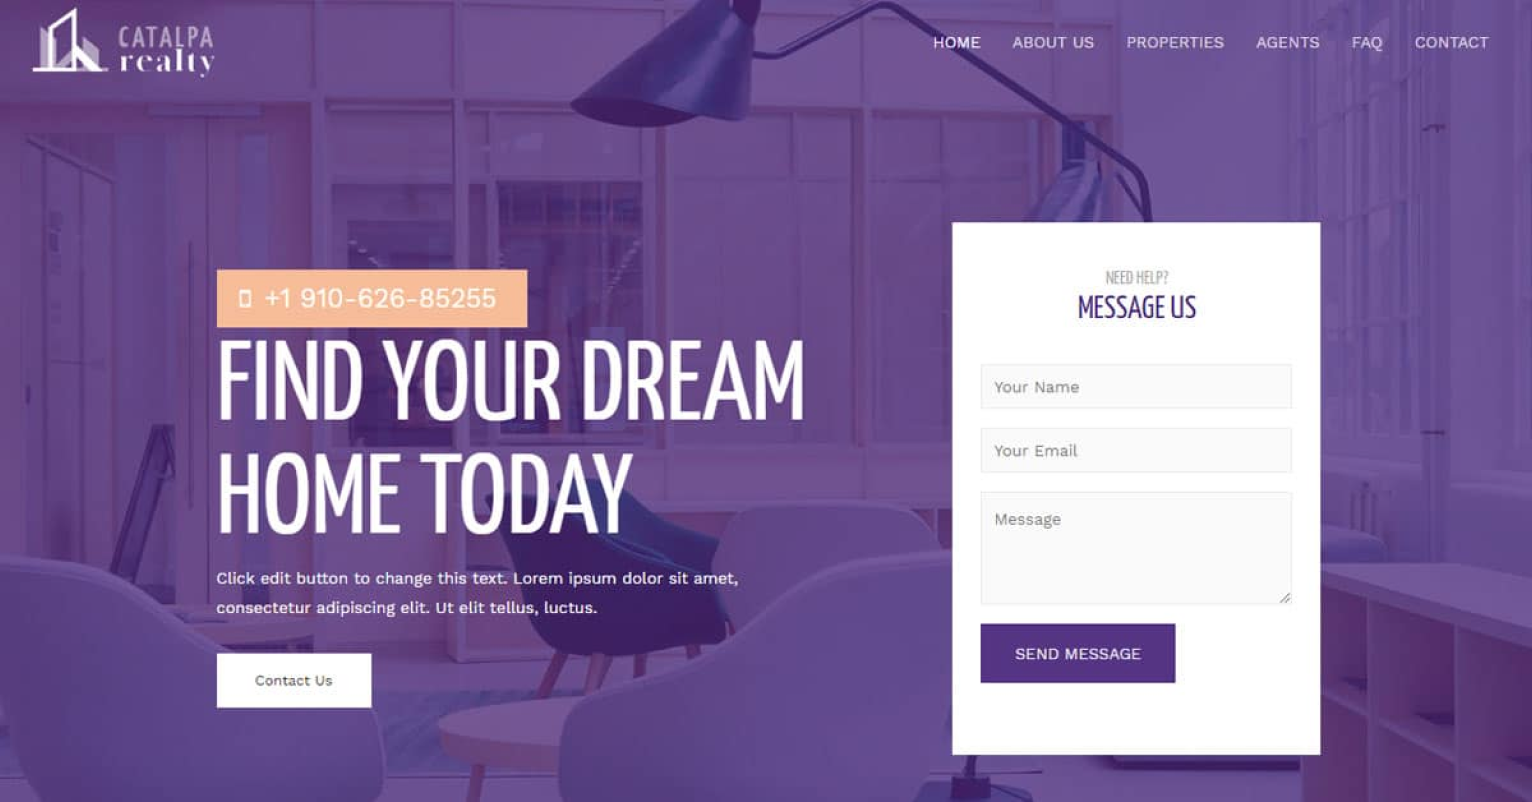menu: (12, 2, 1512, 171)
